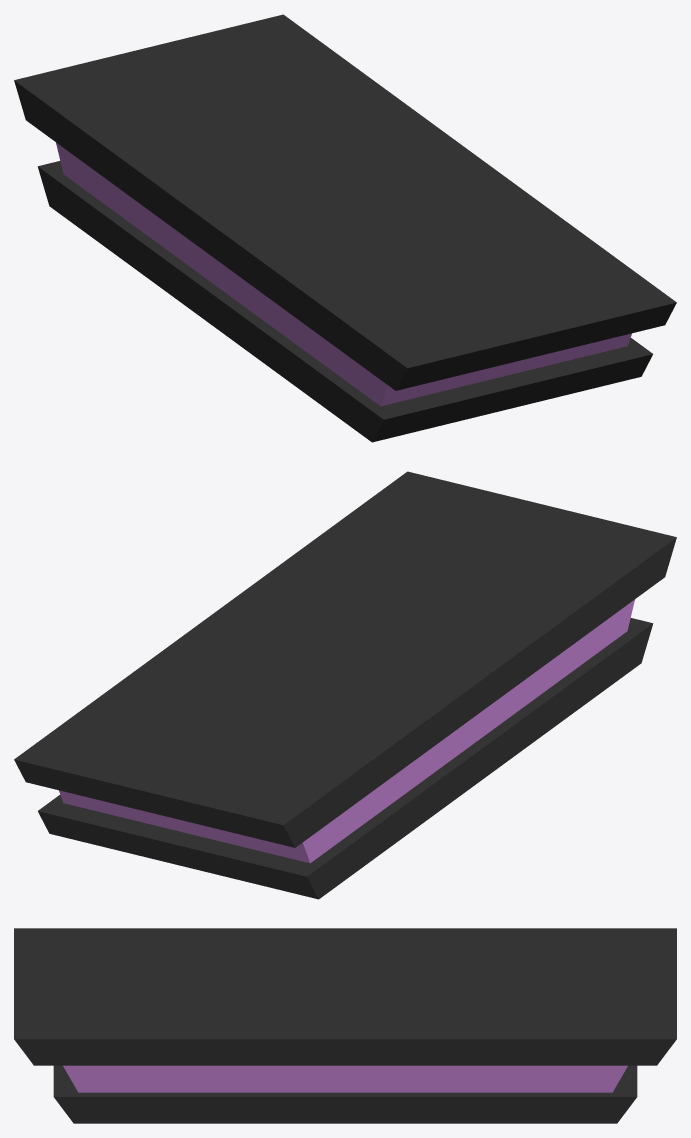
The model's file is Platform.fbx.
3 renders of one model, top to bottom at view 1: azimuth 30°, elevation 25°; view 2: azimuth 150°, elevation 25°; view 3: azimuth 270°, elevation 25°, orthographic. The views are drawn at different scales.
Parts seen in each view (by area): view 1: pCube1; view 2: pCube1; view 3: pCube1.
Part boxes in pixels (<box>): pCube1: <box>14,14,676,442</box>; pCube1: <box>14,471,676,899</box>; pCube1: <box>14,928,676,1123</box>.
Size of the model in its own units: 1.31 by 0.4667 by 3.32.
